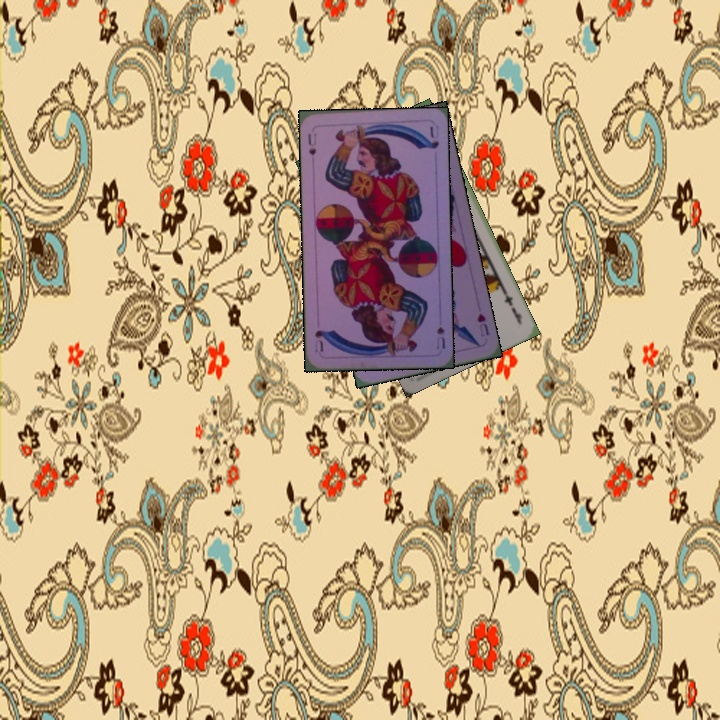E7: (499, 287, 524, 326)
HU: (473, 309, 492, 339)
SU: (304, 129, 319, 166), (432, 323, 448, 352)
